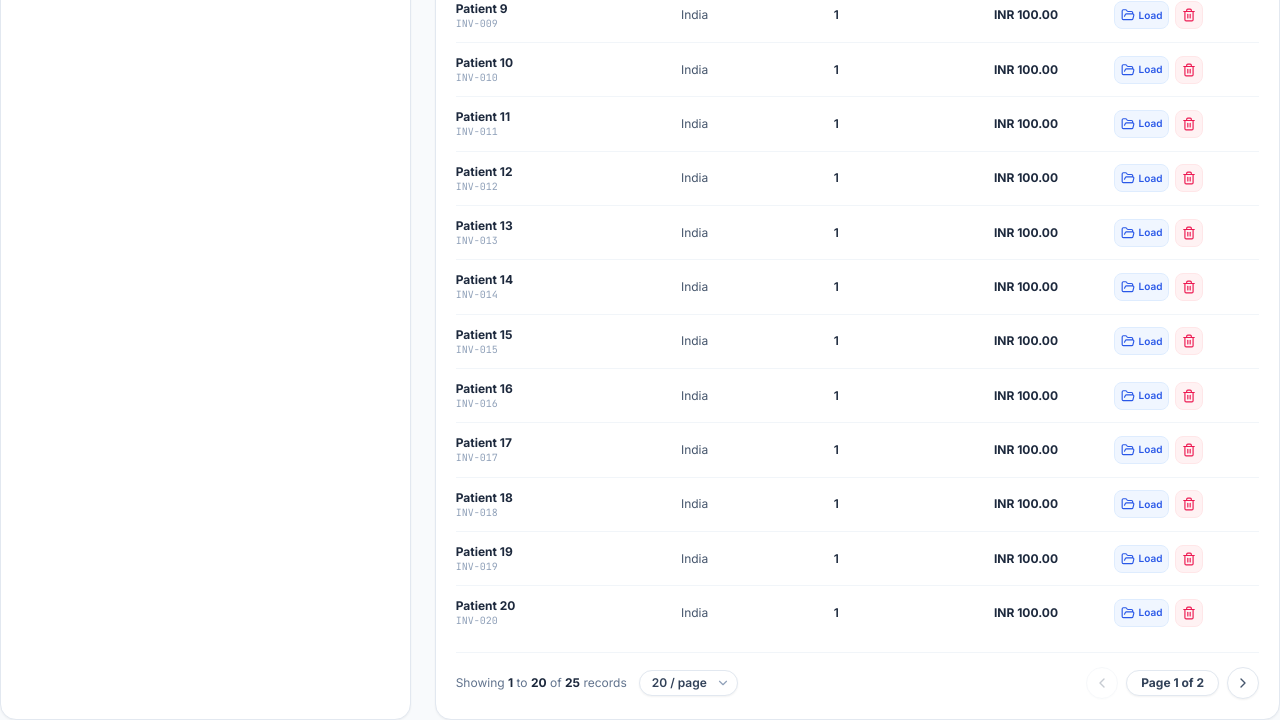
Test: DashboardPage › changes page size and adjusts pagination
(page scrolled)
Select "10 / page" in the dropdown at (688, 683), box [639,670,738,696]
(page scrolled)
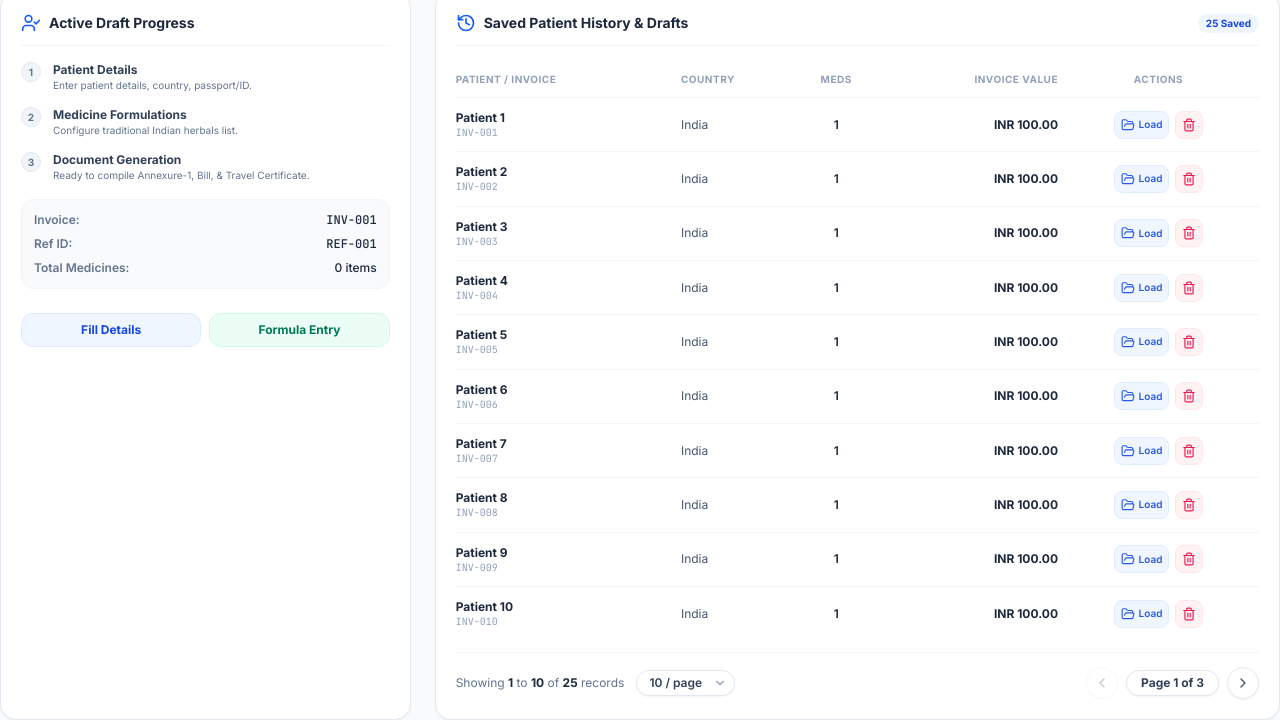
Expected: the text "Patient 10" is shown, [456,599,513,614]
Expected: the text "Page 1 of 3" is shown, [1126,670,1219,696]
Expected: the text "Patient 11" is gone
